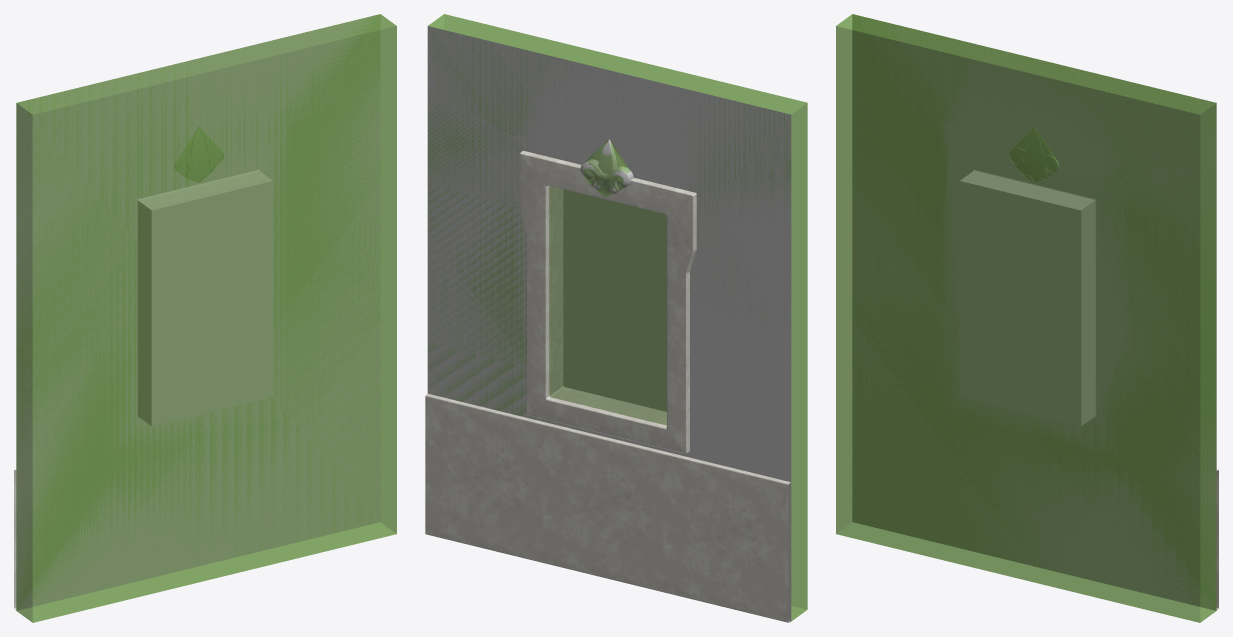
The model's file is F9_md_Wall_4x3_WS_01.fbx.
3 renders of one model, left to right at view 1: azimuth 30°, elevation 25°; view 2: azimuth 150°, elevation 25°; view 3: azimuth 330°, elevation 25°, orthographic.
Visible parts, largest first — view 1: F9_md_Wall_4x3_WS_01_col_2, F9_md_Wall_4x3_WS_01_LOD0, F9_md_Wall_4x3_WS_01_col_1; view 2: F9_md_Wall_4x3_WS_01_LOD0, F9_md_Wall_4x3_WS_01_col_2, F9_md_Wall_4x3_WS_01_col_1; view 3: F9_md_Wall_4x3_WS_01_col_2, F9_md_Wall_4x3_WS_01_LOD0, F9_md_Wall_4x3_WS_01_col_1.
Part boxes in pixels (bbox=[...]): F9_md_Wall_4x3_WS_01_col_2: bbox=[16, 14, 396, 622]; F9_md_Wall_4x3_WS_01_LOD0: bbox=[14, 14, 380, 610]; F9_md_Wall_4x3_WS_01_col_1: bbox=[175, 127, 223, 182]; F9_md_Wall_4x3_WS_01_LOD0: bbox=[425, 26, 791, 622]; F9_md_Wall_4x3_WS_01_col_2: bbox=[427, 14, 807, 621]; F9_md_Wall_4x3_WS_01_col_1: bbox=[582, 140, 630, 196]; F9_md_Wall_4x3_WS_01_col_2: bbox=[836, 14, 1216, 622]; F9_md_Wall_4x3_WS_01_LOD0: bbox=[852, 14, 1218, 610]; F9_md_Wall_4x3_WS_01_col_1: bbox=[1010, 127, 1057, 182].
Size of what is drawn, in the model's own units: 300 by 400 by 31.35.
